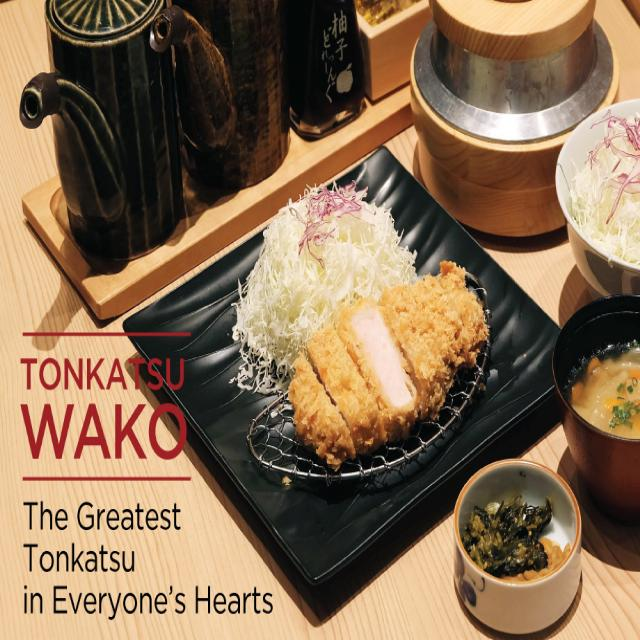meat: (290, 263, 489, 470)
vegetable: (234, 184, 417, 393), (571, 117, 640, 265), (462, 494, 572, 583)
